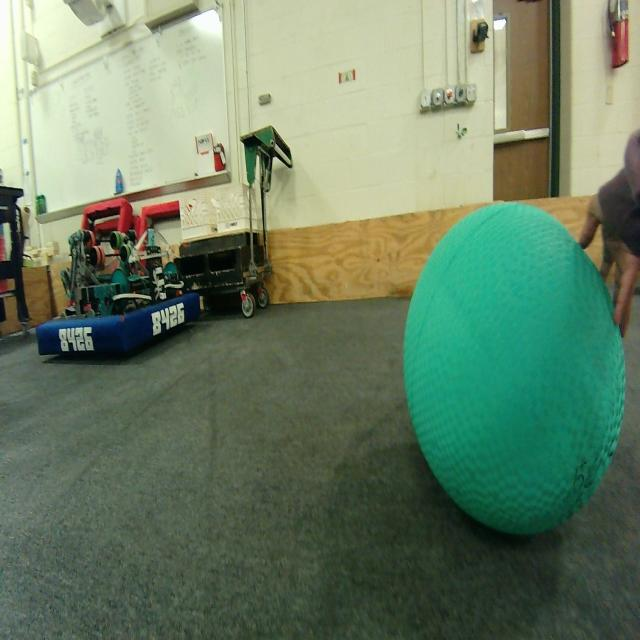algae: (404, 202, 625, 535)
